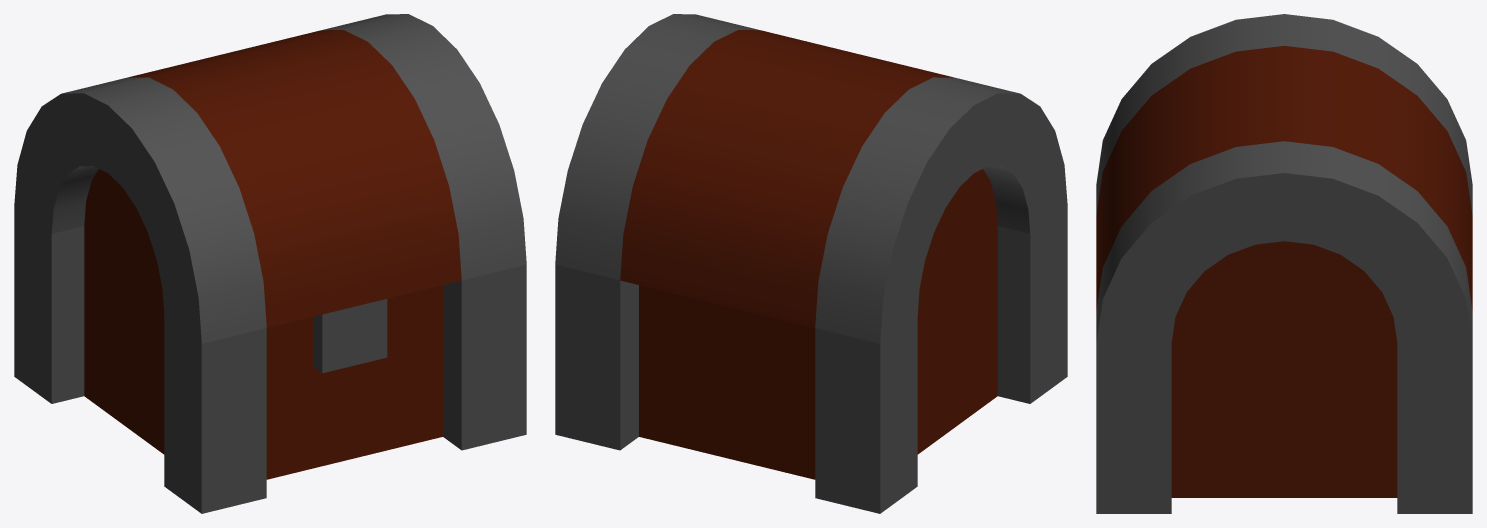
Rendered from chest.obj.
3 views of the same model, side by side, from view 1: azimuth 30°, elevation 25°; view 2: azimuth 150°, elevation 25°; view 3: azimuth 270°, elevation 25° (orthographic).
Visible parts, largest first — view 1: chest; view 2: chest; view 3: chest.
Boxes of the visible parts, left/top/right/bottom form: chest: left=14, top=14, right=526, bottom=513; chest: left=555, top=14, right=1067, bottom=513; chest: left=1096, top=14, right=1472, bottom=513.
Size of the model in its own units: 1.81 by 1.81 by 1.81.
